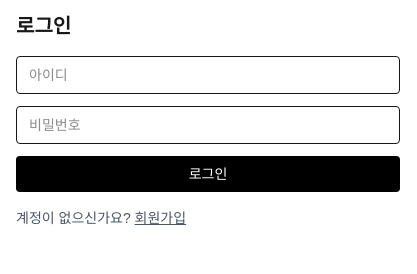
LoginForm › 실패: 잘못된 비밀번호면 에러 메시지를 보여주고 이동하지 않는다
Type "user01" into the field with placeholder "아이디". click: (208, 75)
box: [16, 56, 400, 94]
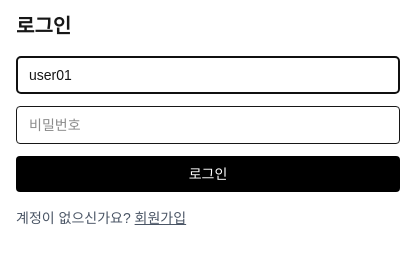
Type "wrong-password" into the password field with placeholder "비밀번호". click: (208, 125)
box: [16, 106, 400, 144]
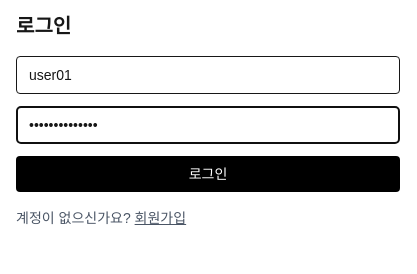
Click the button "로그인". click: (208, 174)
box: [16, 156, 400, 192]
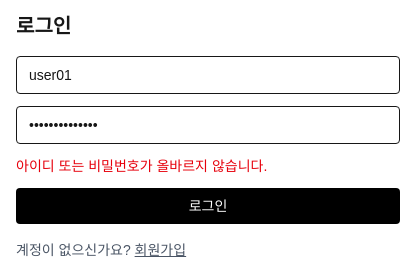
expect the message reads "아이디 또는 비밀번호가 올바르지 않습니다.": met, box [16, 158, 267, 174]
